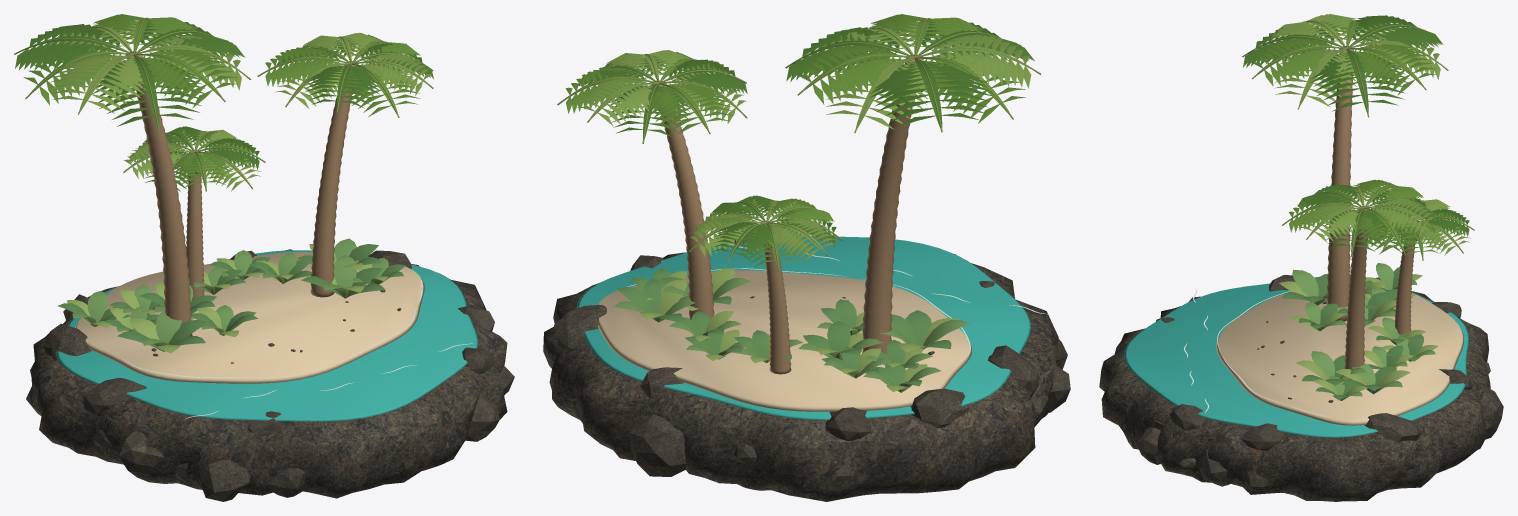
The model's file is jungle-island-v6.fbx.
3 renders of one model, left to right at view 1: azimuth 30°, elevation 25°; view 2: azimuth 150°, elevation 25°; view 3: azimuth 270°, elevation 25°, orthographic. The views are drawn at different scales.
Parts seen in each view (by area): view 1: Jungle | Rock | warm charcoal, Jungle | Sand | warm ivory, Jungle | Water | quiet lagoon, Jungle | Palm | island green, Jungle | Palm | deep olive, Jungle | Palm | warm coconut bark, Jungle | Palm | sunlit olive, Jungle | Understory | deep green, Jungle | Understory | leaf green, Jungle | Palm | leaf midribs, Jungle | Understory | young green, Jungle | Water | sea foam; view 2: Jungle | Rock | warm charcoal, Jungle | Sand | warm ivory, Jungle | Water | quiet lagoon, Jungle | Palm | deep olive, Jungle | Palm | island green, Jungle | Palm | sunlit olive, Jungle | Palm | warm coconut bark, Jungle | Understory | deep green, Jungle | Understory | young green, Jungle | Palm | leaf midribs, Jungle | Understory | leaf green; view 3: Jungle | Rock | warm charcoal, Jungle | Sand | warm ivory, Jungle | Water | quiet lagoon, Jungle | Palm | deep olive, Jungle | Palm | island green, Jungle | Palm | sunlit olive, Jungle | Palm | warm coconut bark, Jungle | Understory | deep green, Jungle | Understory | leaf green, Jungle | Understory | young green, Jungle | Palm | leaf midribs.
Boxes of the visible parts, left/top/right/bottom form: Jungle | Rock | warm charcoal: left=26, top=249, right=514, bottom=501; Jungle | Sand | warm ivory: left=75, top=252, right=424, bottom=383; Jungle | Water | quiet lagoon: left=56, top=250, right=478, bottom=421; Jungle | Palm | island green: left=23, top=14, right=420, bottom=187; Jungle | Palm | deep olive: left=15, top=20, right=433, bottom=191; Jungle | Palm | warm coconut bark: left=126, top=51, right=358, bottom=337; Jungle | Palm | sunlit olive: left=50, top=22, right=432, bottom=191; Jungle | Understory | deep green: left=58, top=244, right=405, bottom=347; Jungle | Understory | leaf green: left=72, top=238, right=388, bottom=351; Jungle | Palm | leaf midribs: left=14, top=17, right=433, bottom=191; Jungle | Understory | young green: left=67, top=244, right=388, bottom=353; Jungle | Water | sea foam: left=122, top=280, right=472, bottom=419; Jungle | Rock | warm charcoal: left=543, top=240, right=1070, bottom=501; Jungle | Sand | warm ivory: left=598, top=270, right=971, bottom=411; Jungle | Water | quiet lagoon: left=576, top=236, right=1030, bottom=420; Jungle | Palm | deep olive: left=578, top=21, right=1034, bottom=261; Jungle | Palm | island green: left=562, top=14, right=1025, bottom=266; Jungle | Palm | sunlit olive: left=576, top=23, right=1035, bottom=261; Jungle | Palm | warm coconut bark: left=651, top=54, right=923, bottom=374; Jungle | Understory | deep green: left=617, top=268, right=951, bottom=391; Jungle | Understory | young green: left=640, top=268, right=958, bottom=392; Jungle | Palm | leaf midribs: left=557, top=18, right=1040, bottom=272; Jungle | Understory | leaf green: left=614, top=278, right=969, bottom=386; Jungle | Rock | warm charcoal: left=1099, top=274, right=1503, bottom=501; Jungle | Sand | warm ivory: left=1216, top=293, right=1463, bottom=425; Jungle | Water | quiet lagoon: left=1124, top=276, right=1468, bottom=437; Jungle | Palm | deep olive: left=1243, top=15, right=1469, bottom=252; Jungle | Palm | island green: left=1250, top=20, right=1465, bottom=256; Jungle | Palm | sunlit olive: left=1271, top=14, right=1470, bottom=255; Jungle | Palm | warm coconut bark: left=1326, top=46, right=1415, bottom=379; Jungle | Understory | deep green: left=1282, top=267, right=1423, bottom=400; Jungle | Understory | leaf green: left=1292, top=263, right=1435, bottom=400; Jungle | Understory | young green: left=1279, top=274, right=1437, bottom=397; Jungle | Palm | leaf midribs: left=1242, top=20, right=1474, bottom=260.
Bounding box in the file's own units: 166 × 140 × 152.
Materials: 13 (1 with a texture image).
